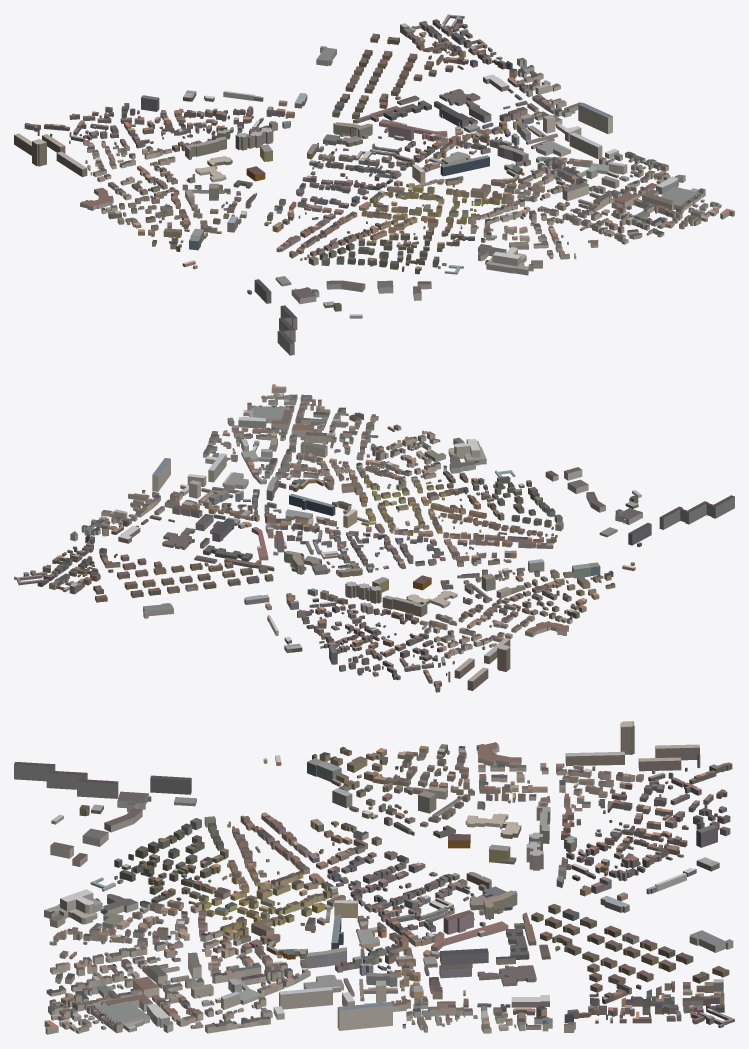
3 renders of one model, top to bottom at view 1: azimuth 30°, elevation 25°; view 2: azimuth 150°, elevation 25°; view 3: azimuth 270°, elevation 25°, orthographic. The views are drawn at different scales.
Visible parts, largest first — view 1: tuile; view 2: tuile; view 3: tuile.
Part boxes in pixels (x1=…): tuile: x1=14, y1=14, x2=734, y2=355; tuile: x1=14, y1=384, x2=734, y2=692; tuile: x1=14, y1=721, x2=734, y2=1034.
Size of the model in its own units: 1029 by 78.3 by 1067.
